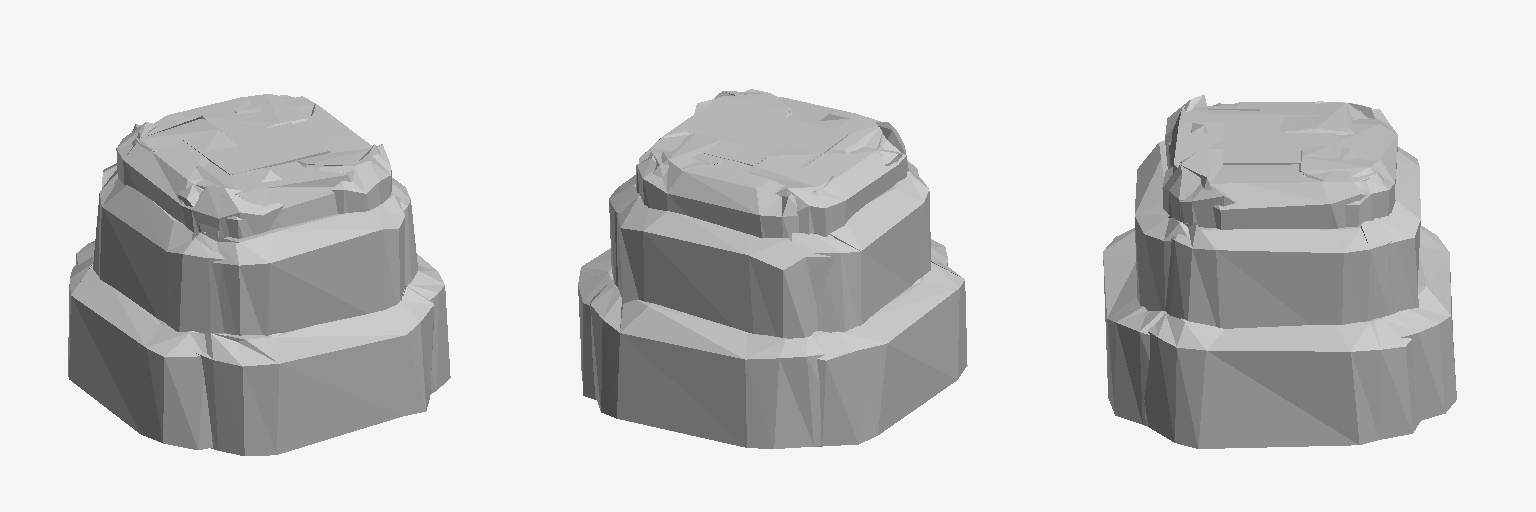
File: Mesa_2.obj
The picture shows the model from 3 angles: view 1: azimuth 30°, elevation 25°; view 2: azimuth 150°, elevation 25°; view 3: azimuth 270°, elevation 25°; orthographic projection.
Visible parts, largest first — view 1: Cube1; view 2: Cube1; view 3: Cube1.
Boxes of the visible parts, x1,y1,x2,y2 form: Cube1: [68, 94, 450, 455]; Cube1: [578, 89, 967, 448]; Cube1: [1103, 95, 1456, 448].
Bounding box in the file's own units: 6.16 × 4.63 × 6.19.